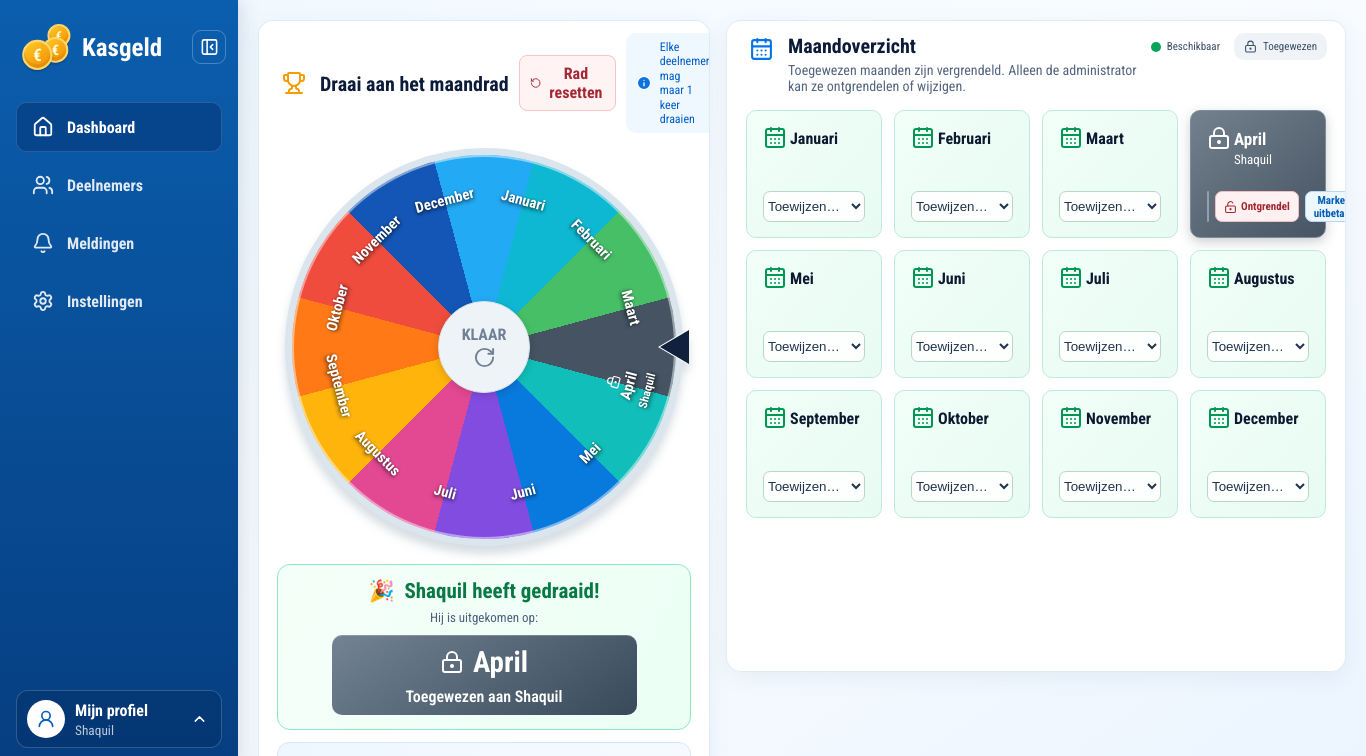
Kasgeld dashboard › voegt een deelnemer toe en bewaart deze lokaal
Click the button "Deelnemers". click: (119, 185)
box: [16,160,222,210]
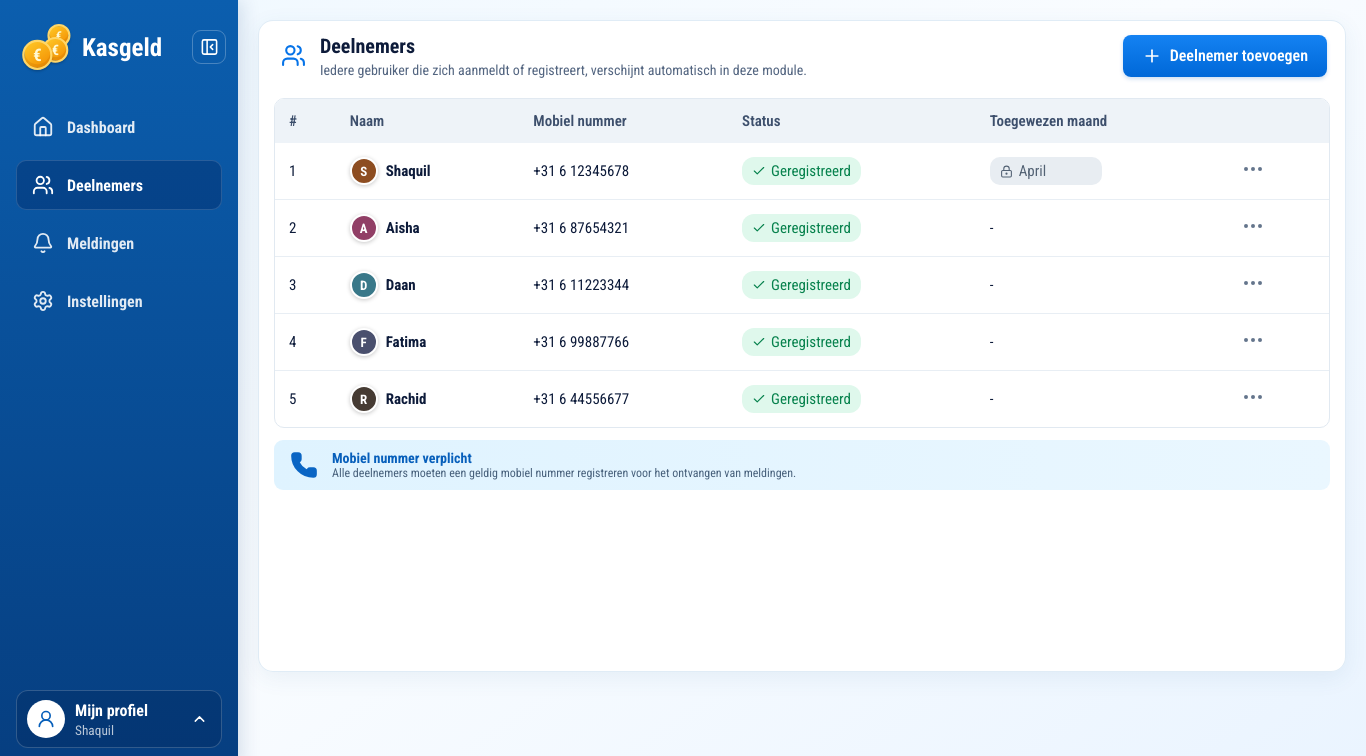
Click the button "Deelnemer toevoegen". click: (1225, 56)
box: [1123,34,1327,76]
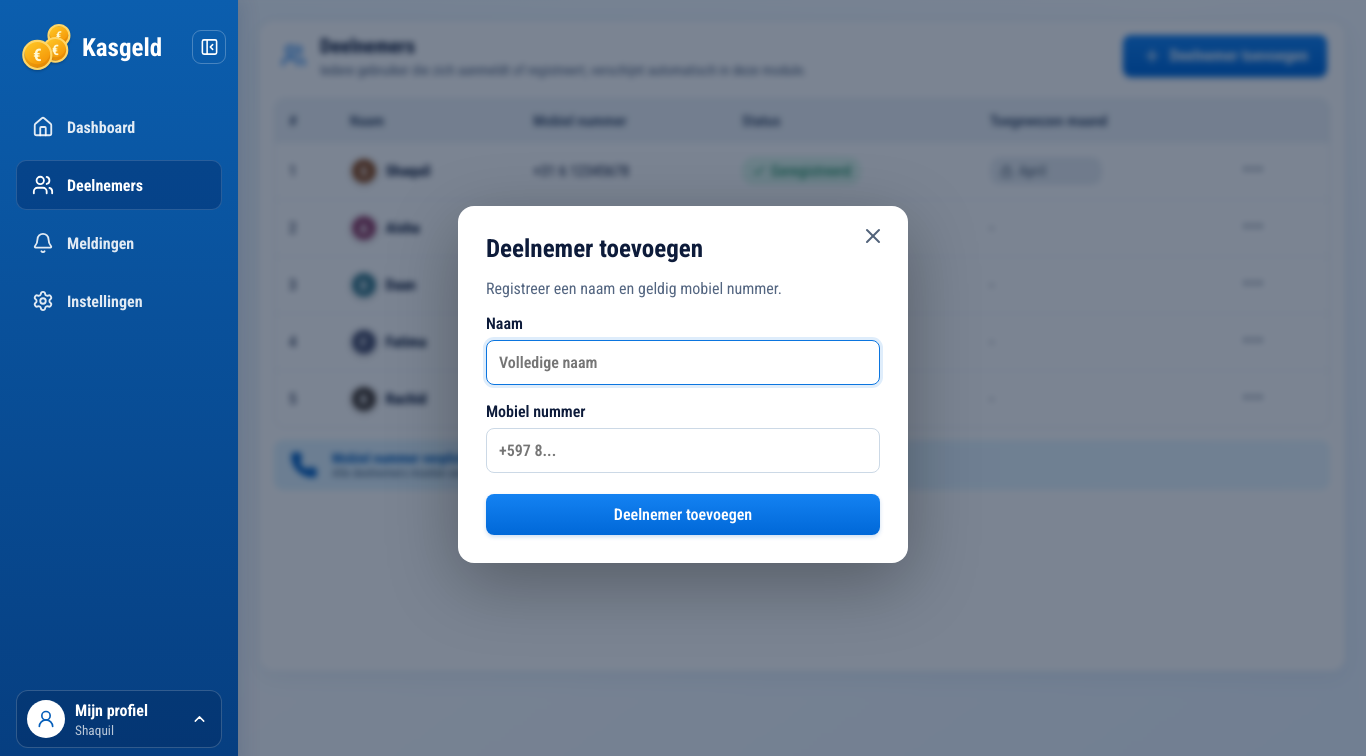
Type "Naomi" into the field with placeholder "Volledige naam". click: (683, 362)
box: [486,340,880,384]
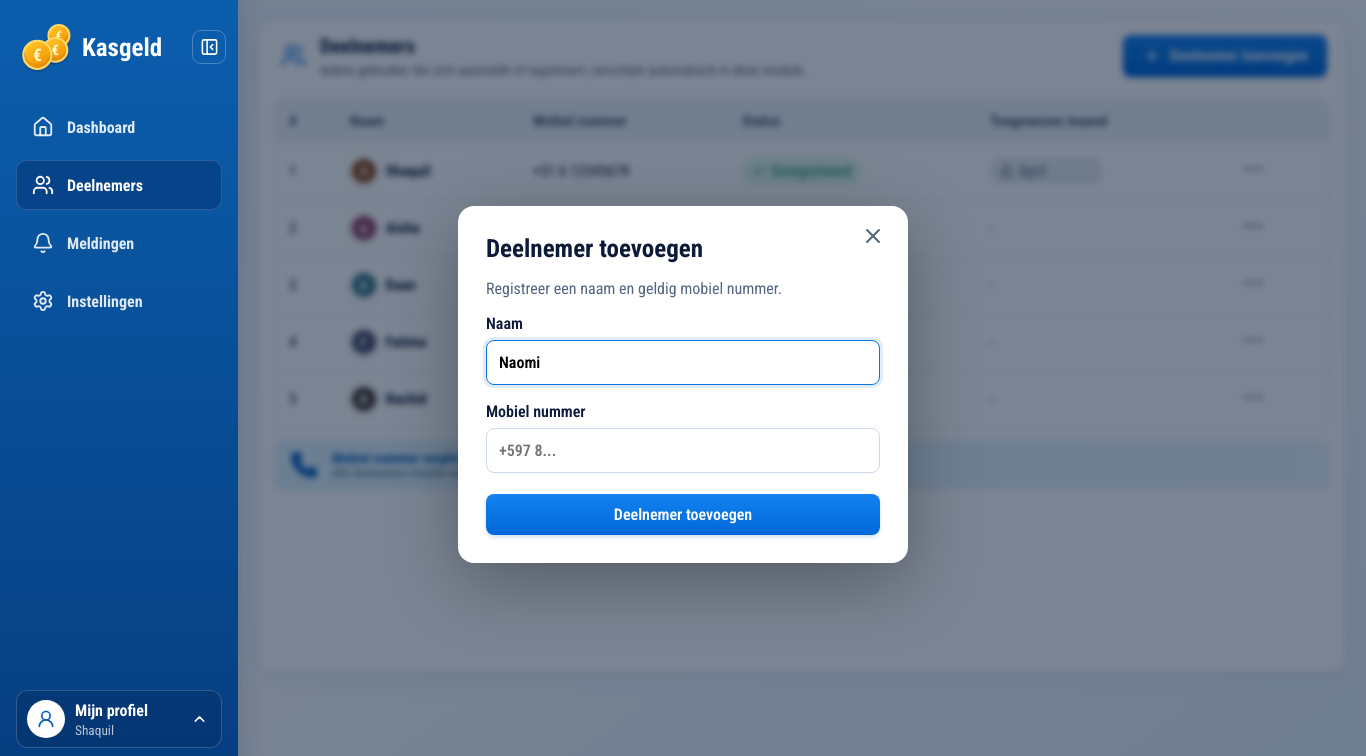
Type "+597 8123456" into the field with placeholder "+597 8...". click: (683, 450)
box: [486,428,880,472]
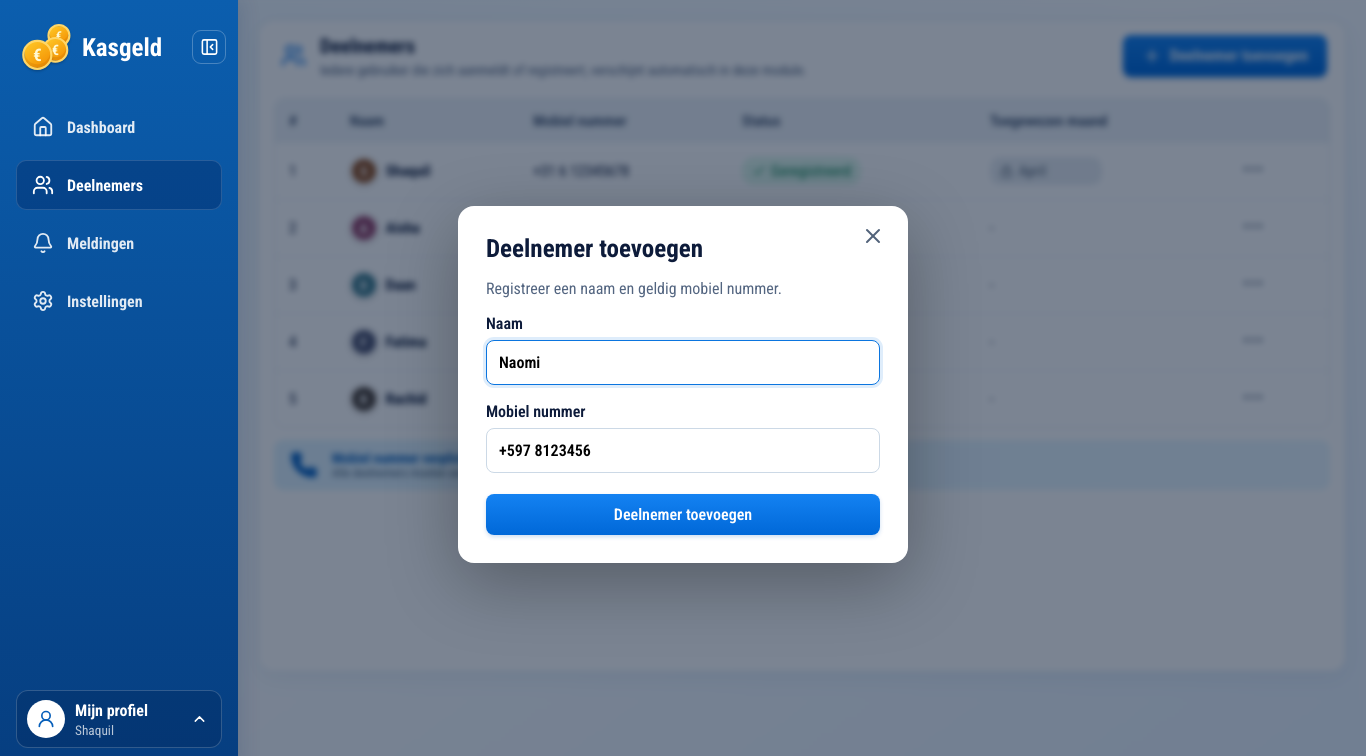
Click the button "Deelnemer toevoegen". click: (683, 514)
box: [486,494,880,534]
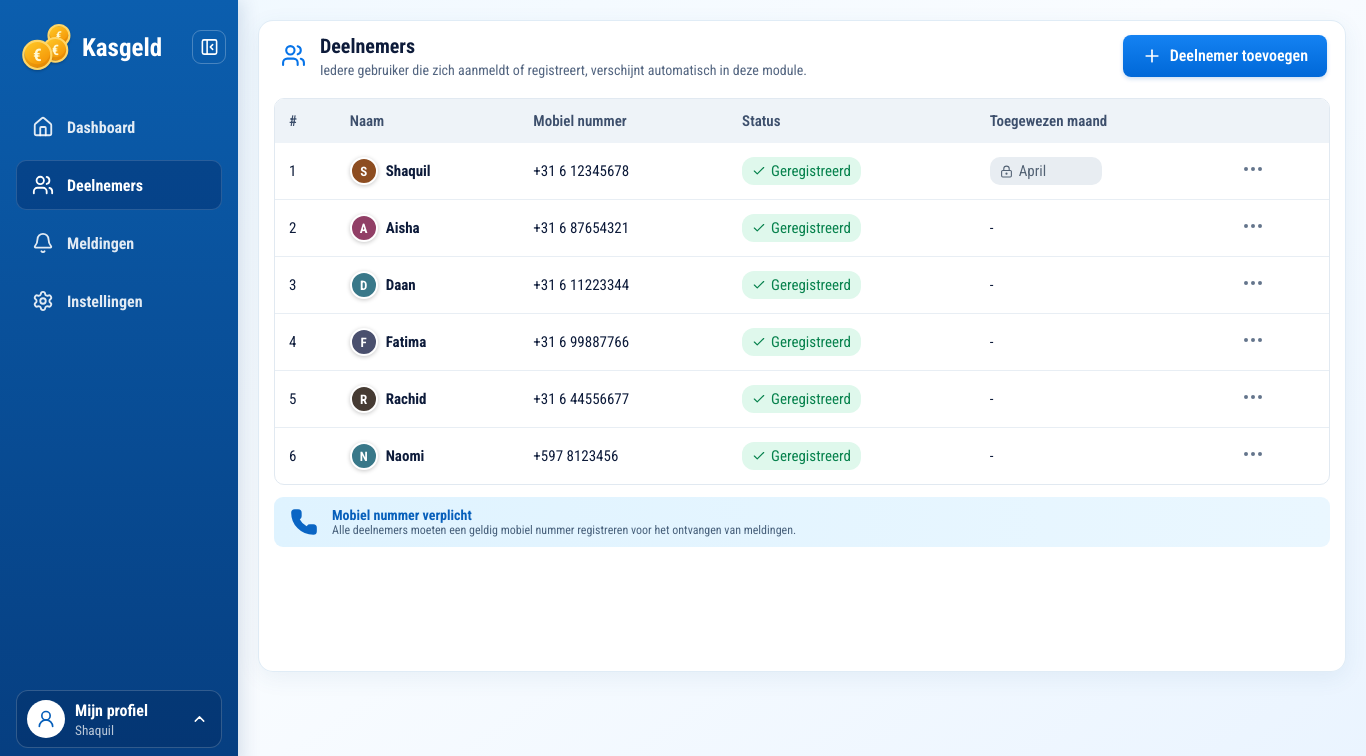
expect the text "Naomi" is shown: met, box [386,447,424,465]
